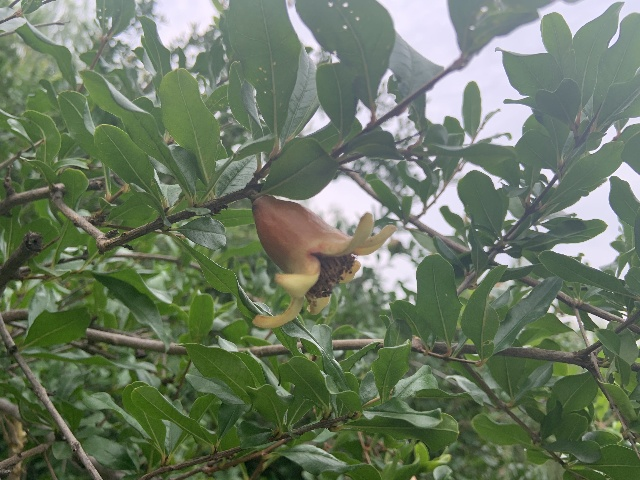early-fruit: (250, 194, 398, 327)
